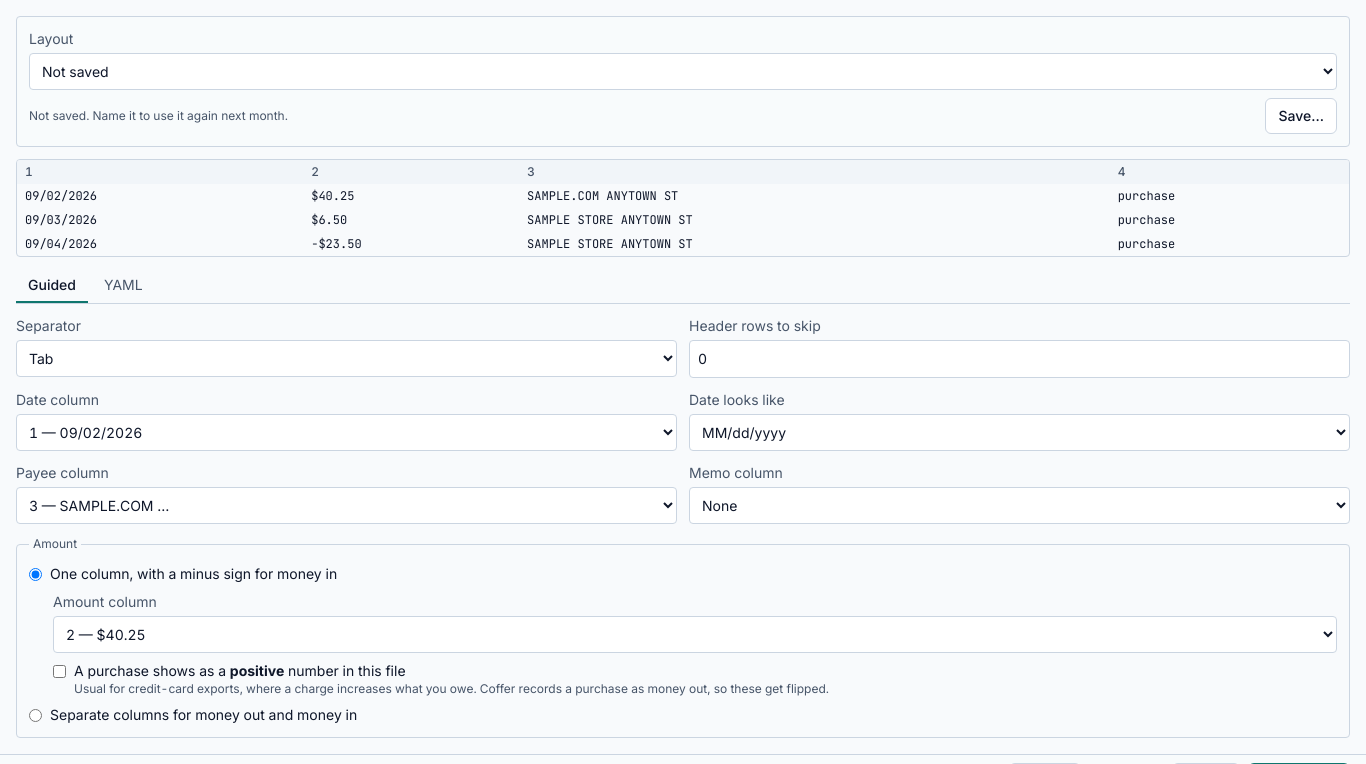
Test case: CsvMappingStep › offers only the amount columns the chosen shape uses
The width and height of the screenshot is (1366, 764).
Expected: the dropdown labelled "Amount column" is shown, [53,616,1337,653]
Expected: the field labelled "Money out (debit)" is not shown
Click the radio button labelled "Separate columns for money out and money in". click: (36, 715)
box: [29,708,42,722]
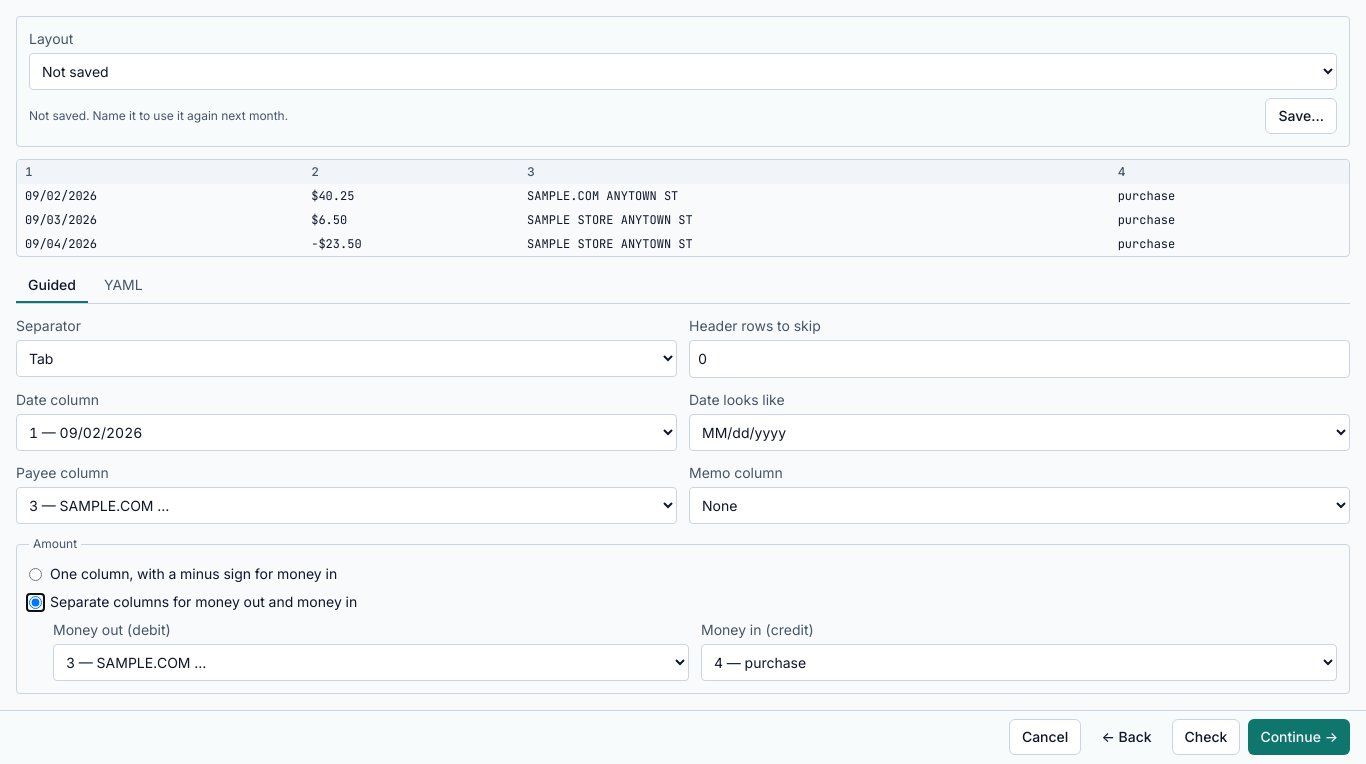
Expected: the dropdown labelled "Money out (debit)" is shown, [53,644,689,681]
Now the text labelled "Amount column" is gone
